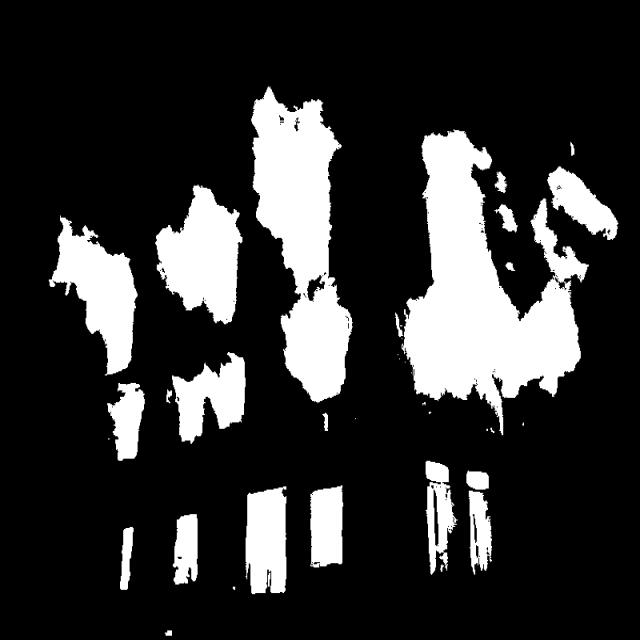fire: (215, 48, 610, 640), (50, 152, 297, 640)
